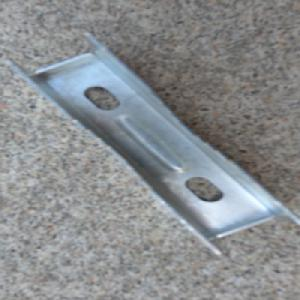ClampPart: (6, 30, 300, 256)
